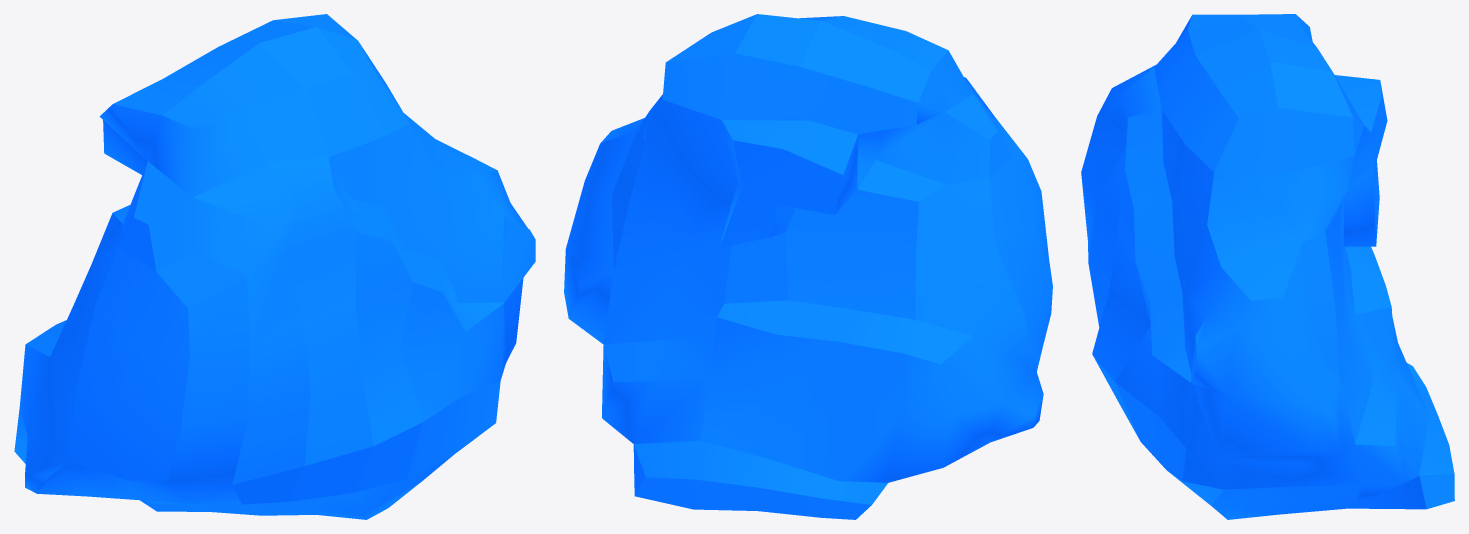
Rendered from rock_blue.glb.
The picture shows the model from 3 angles, left to right: view 1: azimuth 30°, elevation 25°; view 2: azimuth 150°, elevation 25°; view 3: azimuth 270°, elevation 25°; orthographic projection. The views are drawn at different scales.
Parts seen in each view (by area): view 1: rock.017; view 2: rock.017; view 3: rock.017.
Part boxes in pixels (x1,y1,x2,y2): rock.017: (14, 14, 535, 519); rock.017: (564, 14, 1052, 519); rock.017: (1081, 14, 1454, 519).
Size of the model in its own units: 6.17 by 5.98 by 4.5.
